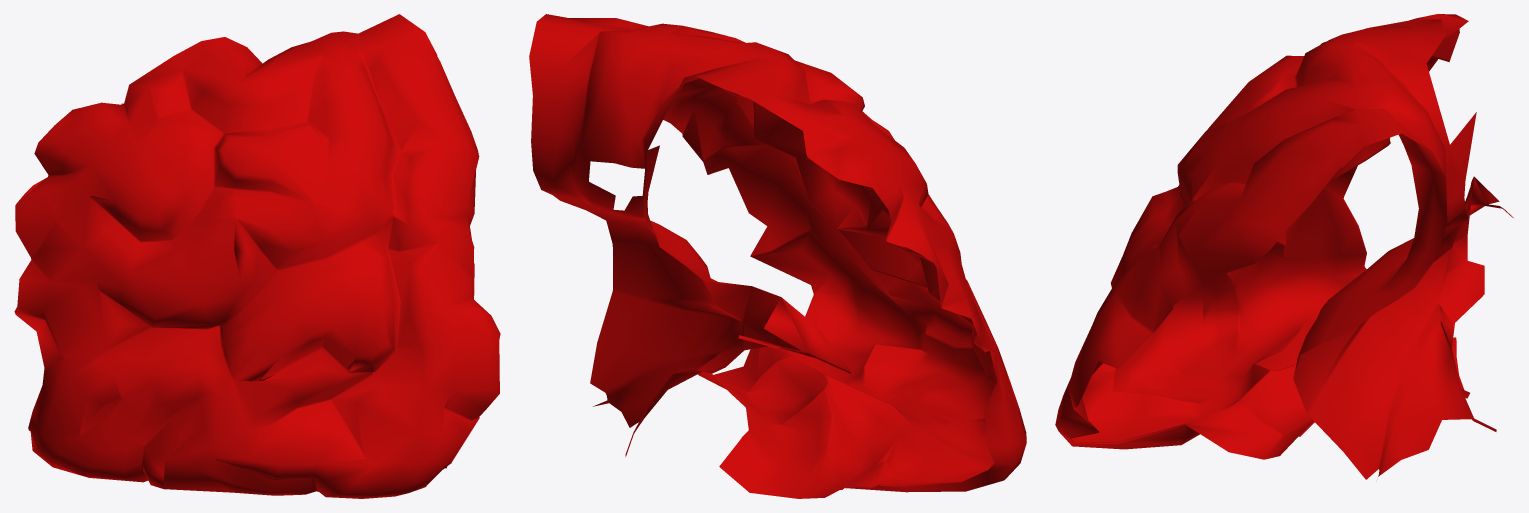
File: region_7.obj
3 views of the same model, side by side, from view 1: azimuth 30°, elevation 25°; view 2: azimuth 150°, elevation 25°; view 3: azimuth 270°, elevation 25° (orthographic). The views are drawn at different scales.
Visible parts, largest first — view 1: ID53; view 2: ID53; view 3: ID53.
Part boxes in pixels (<box>): ID53: <box>14,14,500,498</box>; ID53: <box>529,14,1026,498</box>; ID53: <box>1055,14,1513,479</box>.
Size of the model in its own units: 93.08 by 75.78 by 80.34.
